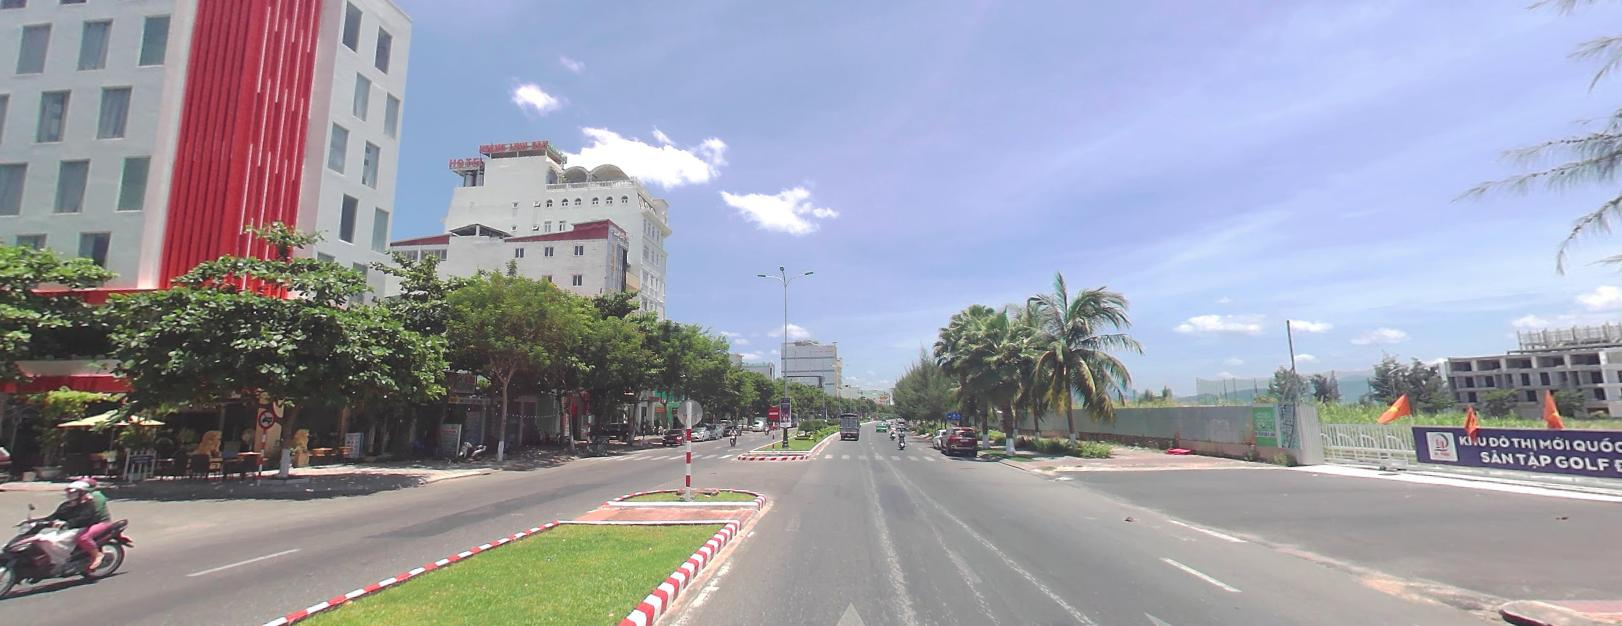Cam con lai: (256, 408, 275, 427)
Cam nguoc chieu: (767, 406, 780, 420)
